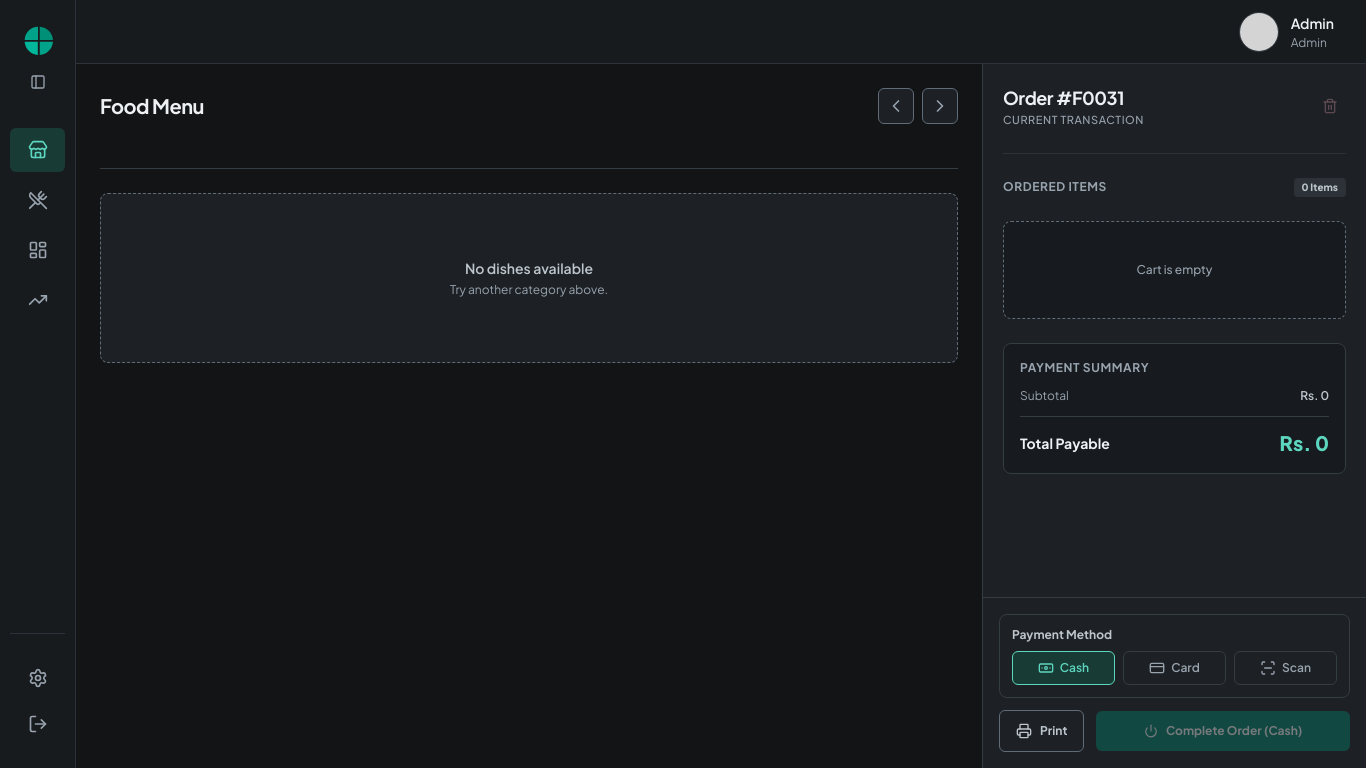
Test case: App login screen › requires confirmation before logging out
Click the button named "Logout".
click(38, 724)  # box [10,704,65,744]
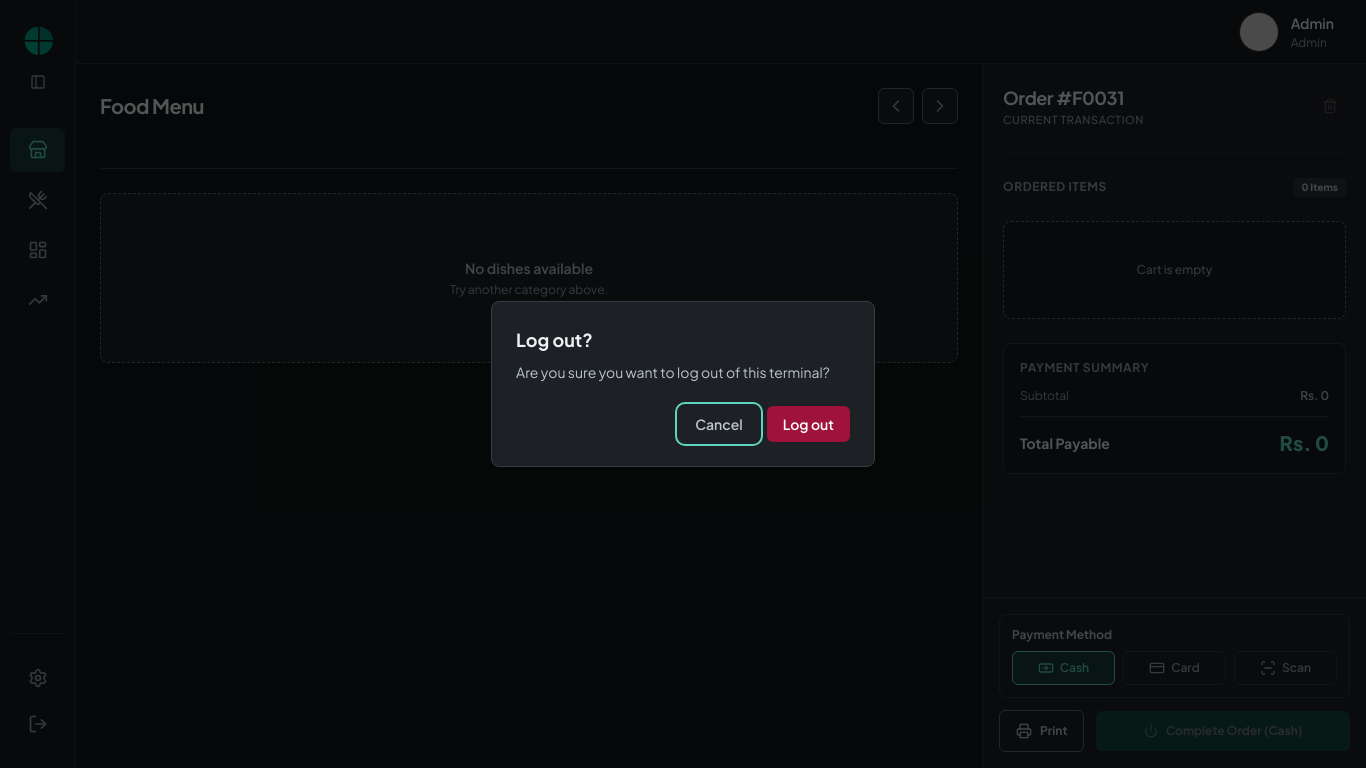
expect the dialog "Log out?" is shown: met, box [491,301,875,467]
Click the button "Cancel".
click(719, 424)  # box [679,406,759,442]
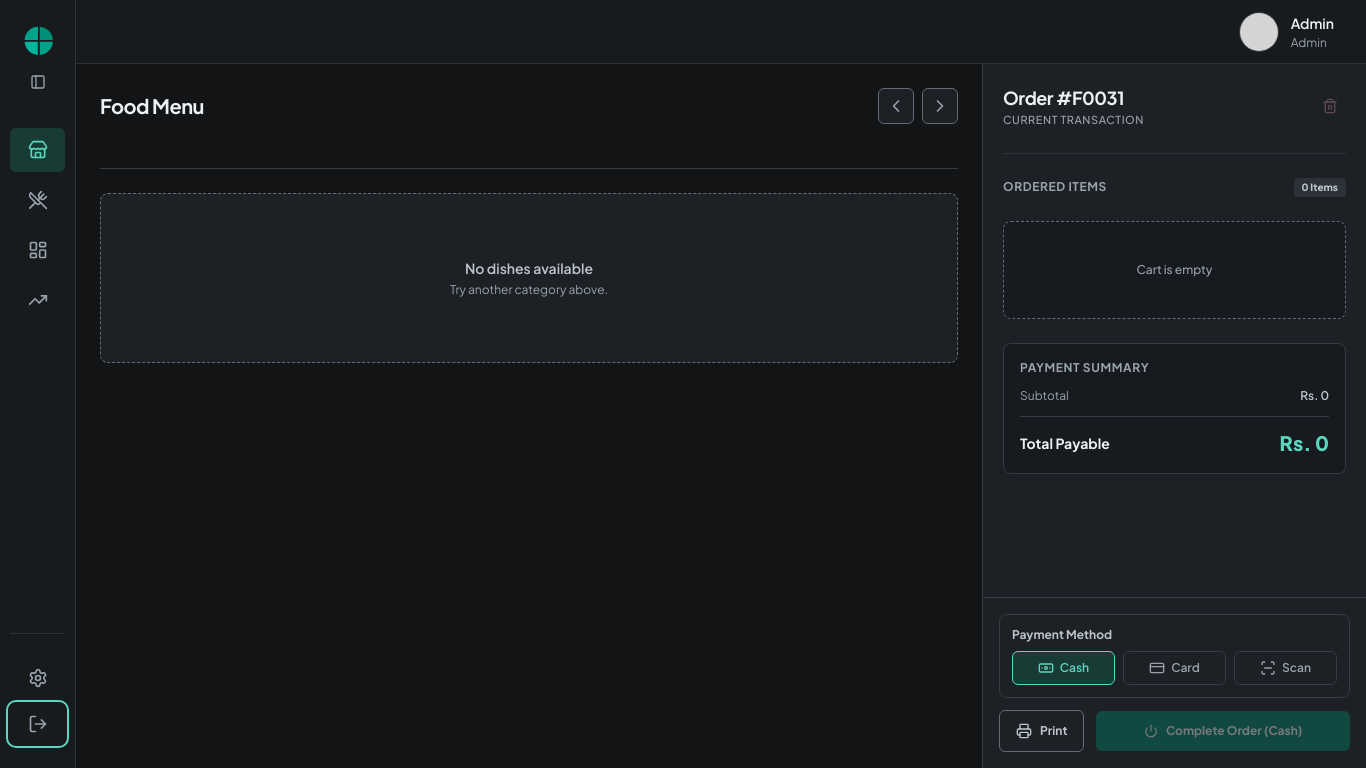
expect the dialog is gone: met
Click the button named "Logout".
click(38, 724)  # box [10,704,65,744]
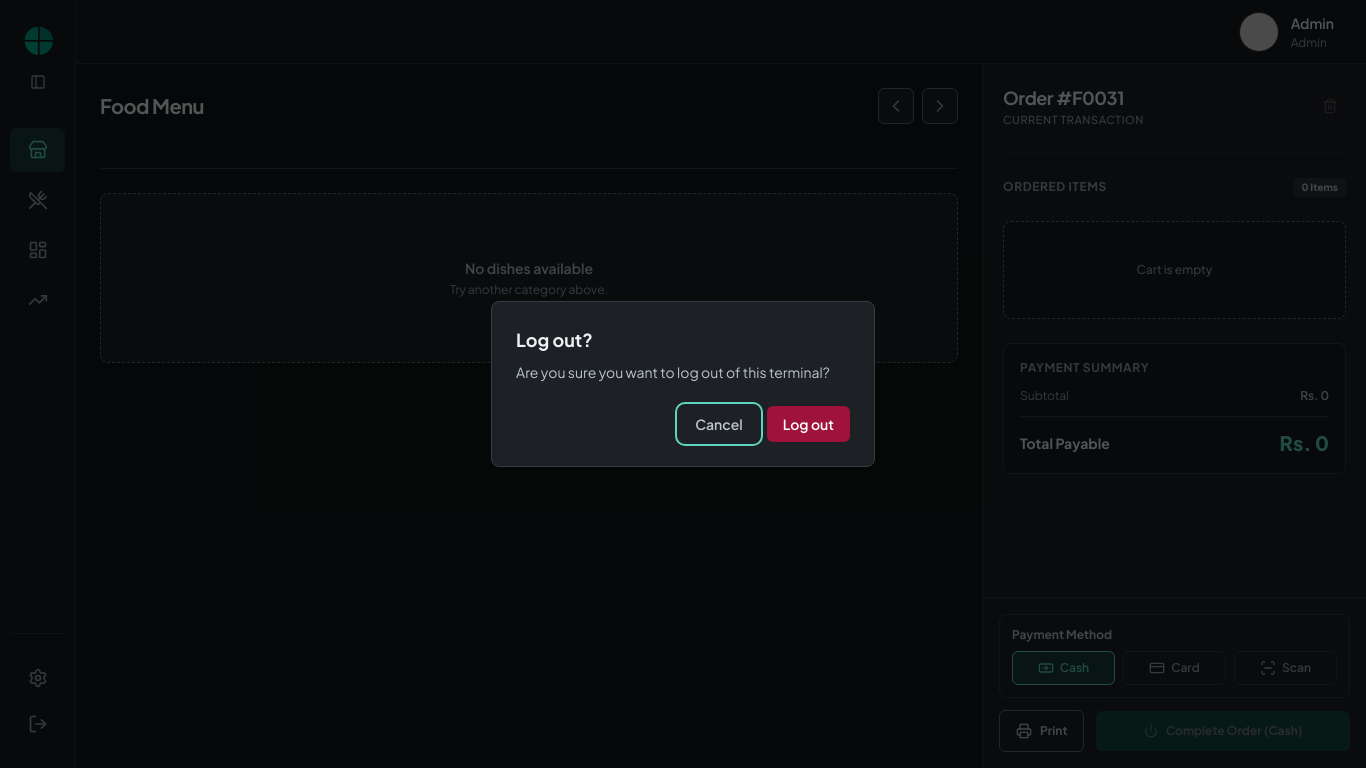
Click the button "Log out".
click(808, 424)  # box [767,406,850,442]
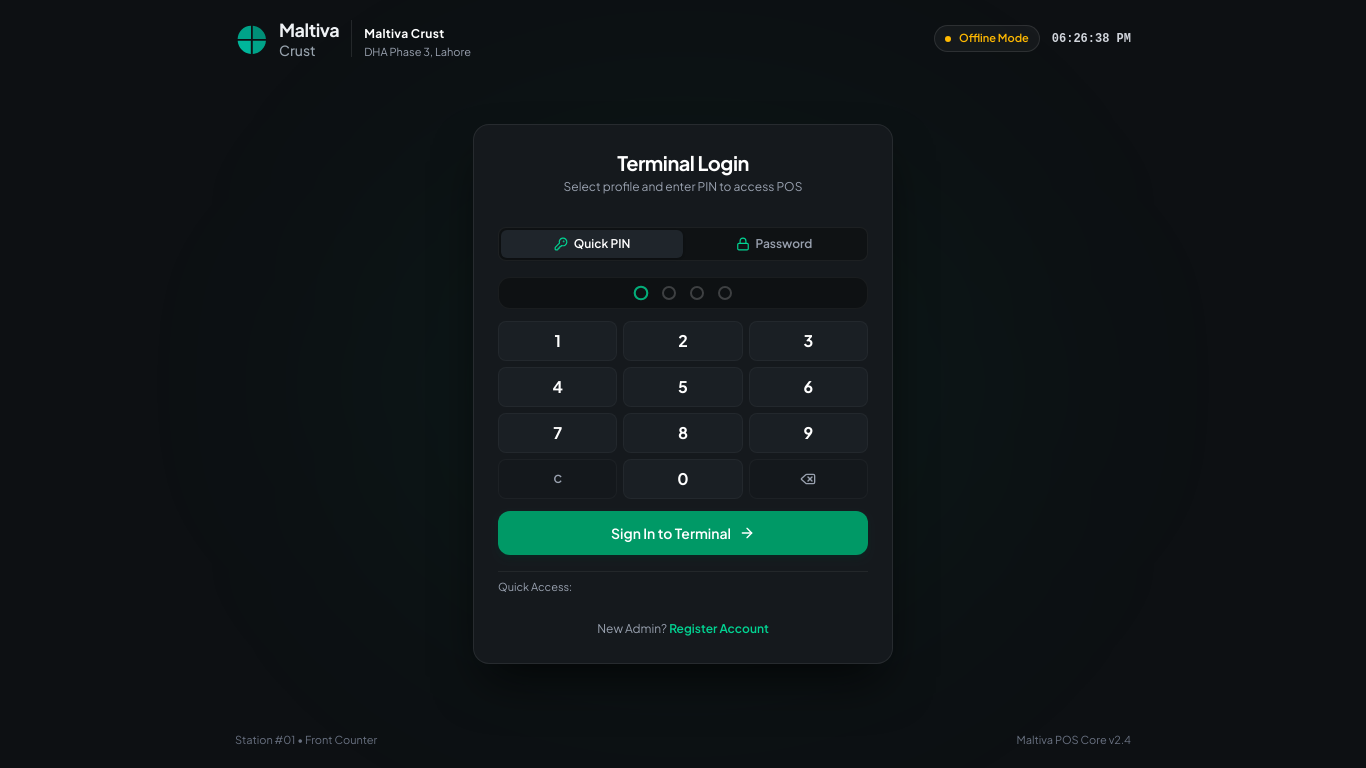
expect the heading "Terminal Login" is shown: met, box [617,150,749,175]
